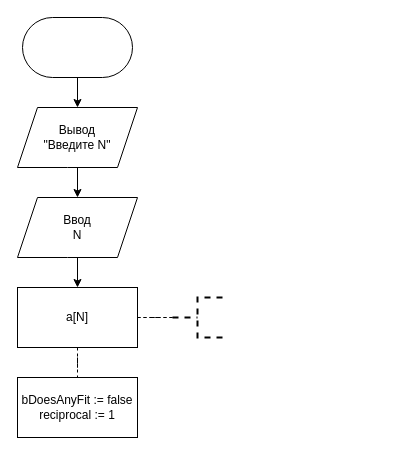
This 401x455 diagram has some shape labels left out. The centre of each missing label's shape, as x and y in pixels:
Заполнение массива a[N] псевдослучайными числами: the point at 197,317
Начало: the point at 77,47
